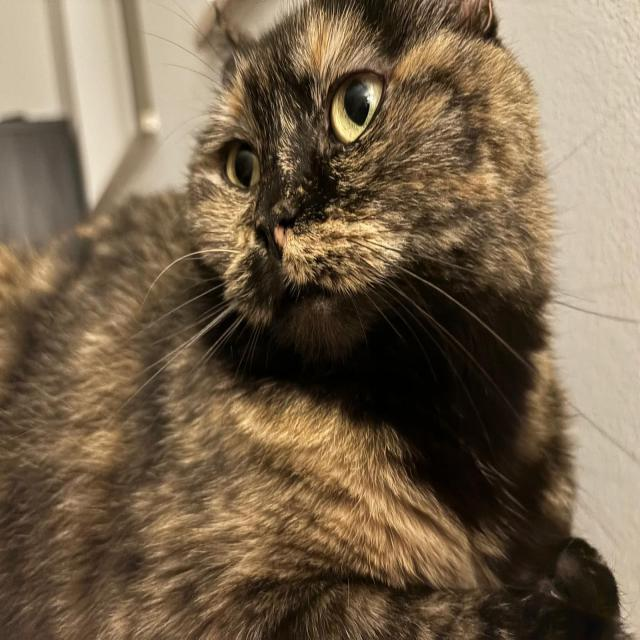authorized: (1, 0, 632, 639)
